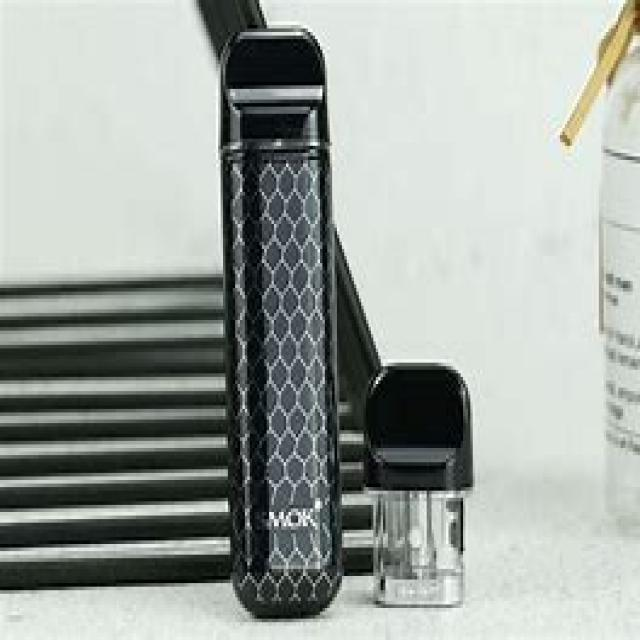Hazard: (223, 29, 343, 618)
